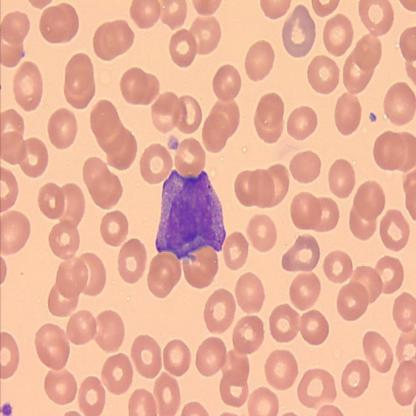Myelocyte: (156, 171, 225, 257)
